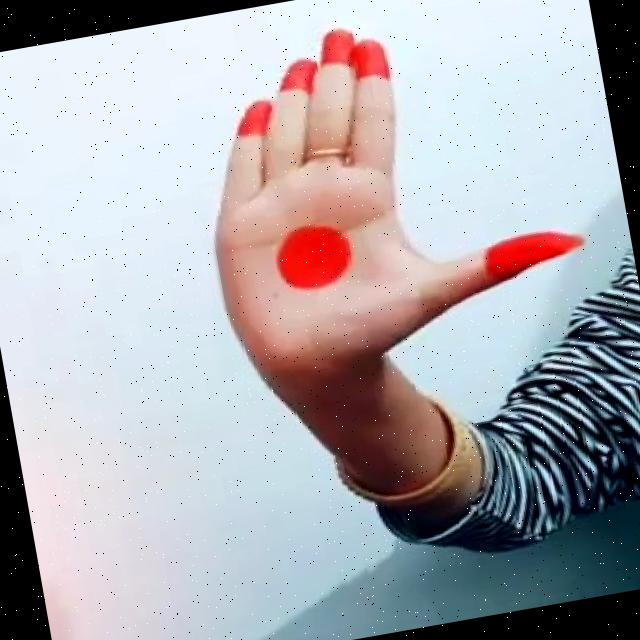Ardhachandra: (145, 0, 613, 383)
bangle: (286, 376, 492, 538)
